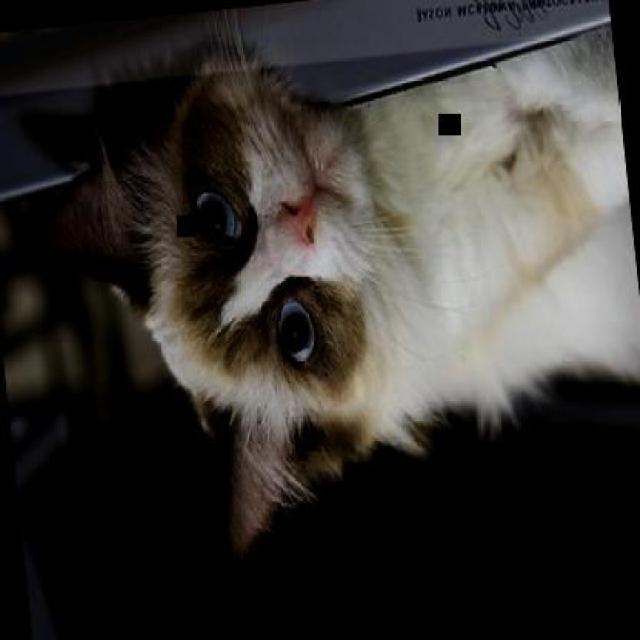cat: (9, 8, 638, 602)
